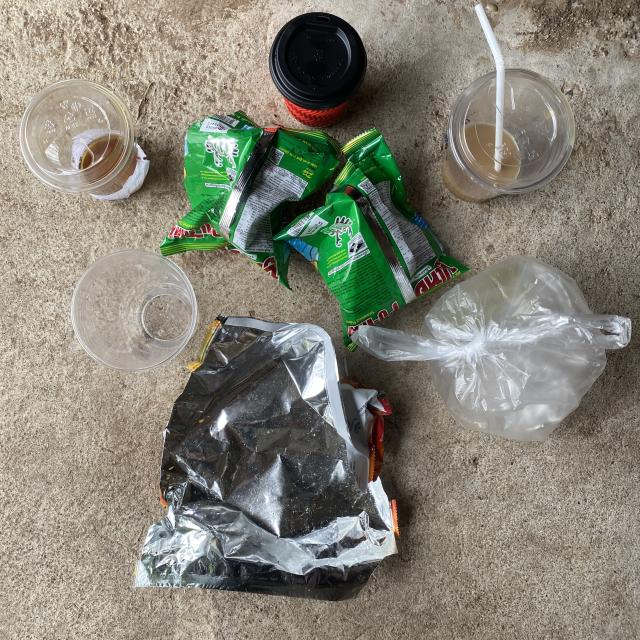Single-layer Plastic: (351, 255, 631, 441)
